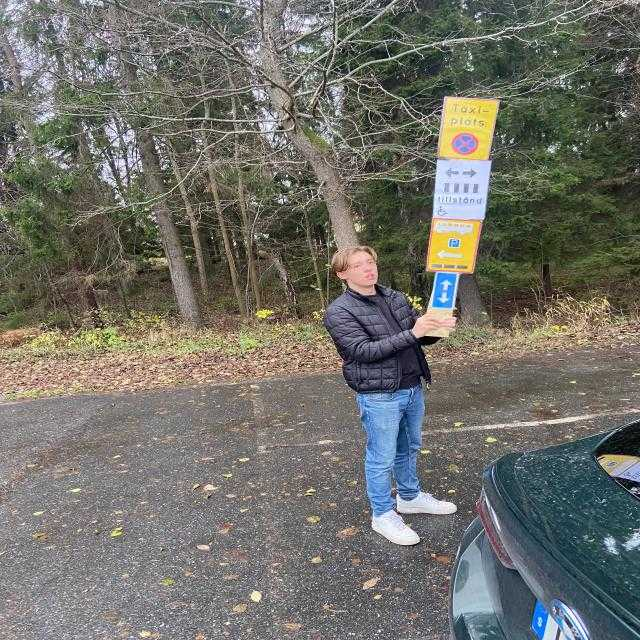lastplats: (437, 95, 500, 160)
